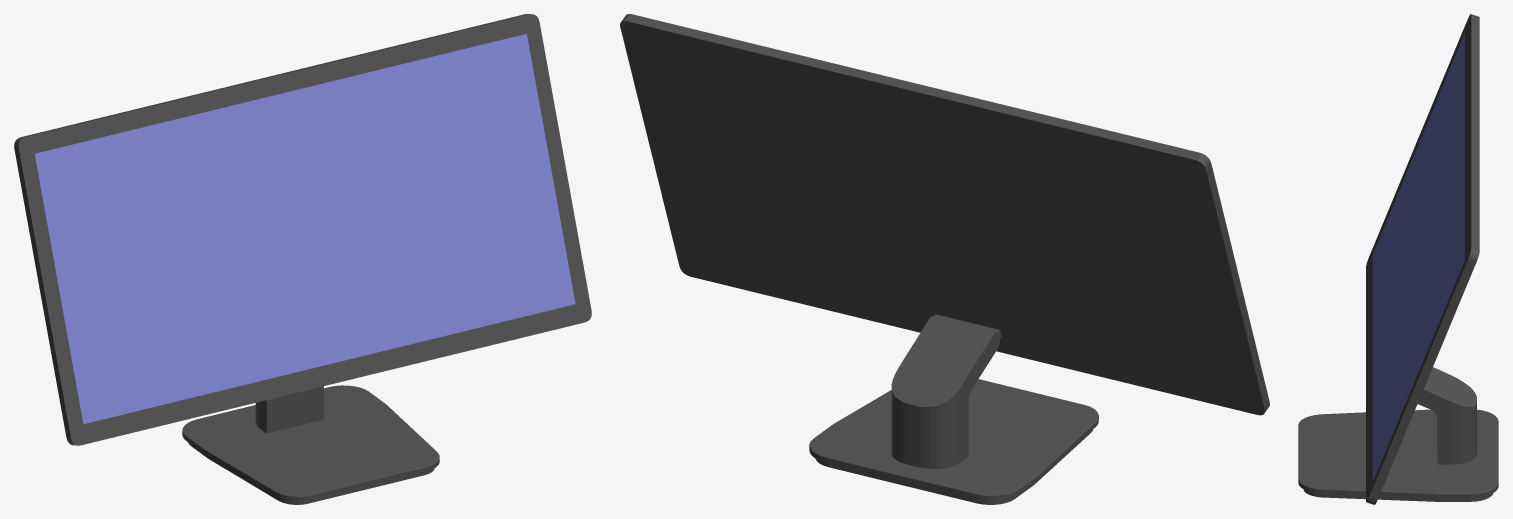
File: monitor.fbx
3 renders of one model, left to right at view 1: azimuth 30°, elevation 25°; view 2: azimuth 150°, elevation 25°; view 3: azimuth 270°, elevation 25°, orthographic. The views are drawn at different scales.
Visible parts, largest first — view 1: Rectangle0; view 2: Rectangle0; view 3: Rectangle0.
Boxes of the visible parts, <box> form: Rectangle0: <box>14,14,591,504</box>; Rectangle0: <box>620,14,1269,504</box>; Rectangle0: <box>1298,14,1498,504</box>.
Size of the model in its own units: 0.6081 by 0.3892 by 0.2139.
